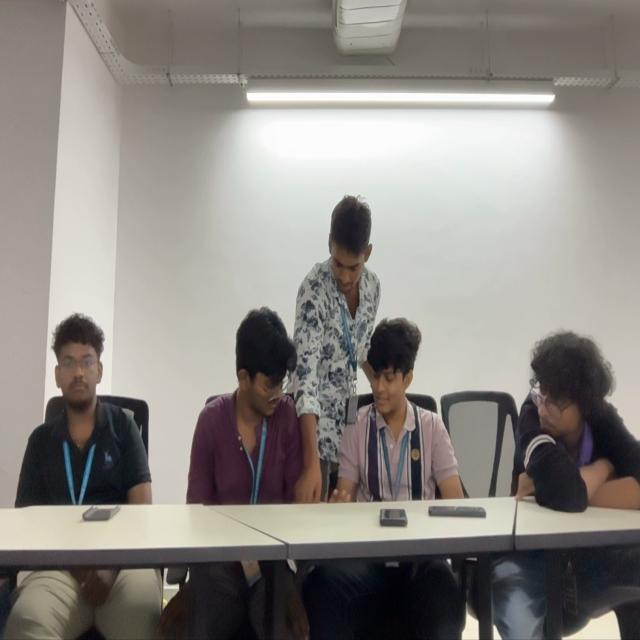Isolated: (17, 314, 153, 503), (509, 328, 640, 511)
socializing: (188, 193, 461, 500)
